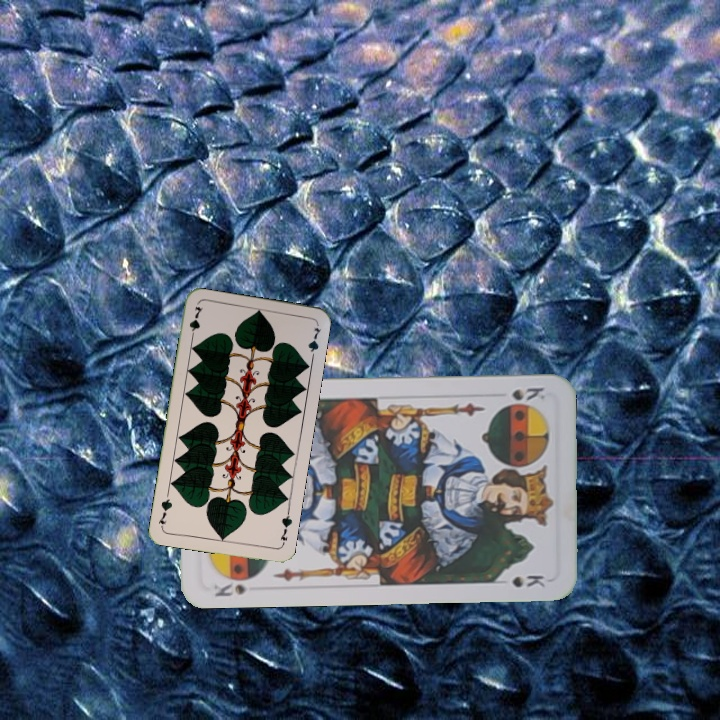G7: (185, 302, 205, 343), (276, 507, 295, 548)
SK: (209, 578, 248, 600), (508, 383, 548, 404)
